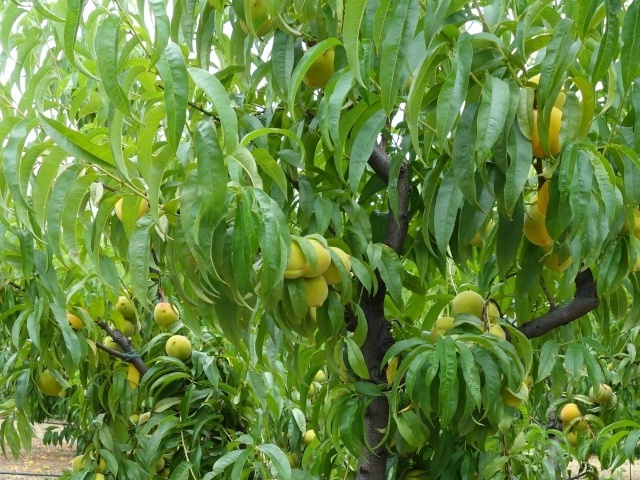peach: (523, 103, 568, 164), (298, 40, 342, 93), (517, 201, 559, 250), (298, 232, 334, 281), (446, 286, 488, 325), (320, 242, 355, 287), (279, 236, 313, 282), (539, 236, 576, 278), (109, 192, 151, 227), (299, 271, 332, 314), (476, 320, 515, 354), (34, 365, 68, 400), (498, 378, 531, 412), (472, 296, 507, 327), (163, 332, 196, 364), (425, 313, 461, 341), (62, 300, 93, 332), (149, 299, 182, 329), (585, 377, 616, 408), (555, 400, 584, 426), (111, 291, 136, 320), (115, 312, 140, 339), (68, 452, 93, 478), (149, 452, 172, 477), (564, 428, 588, 451), (304, 377, 326, 402), (301, 427, 319, 449), (312, 367, 327, 386)
